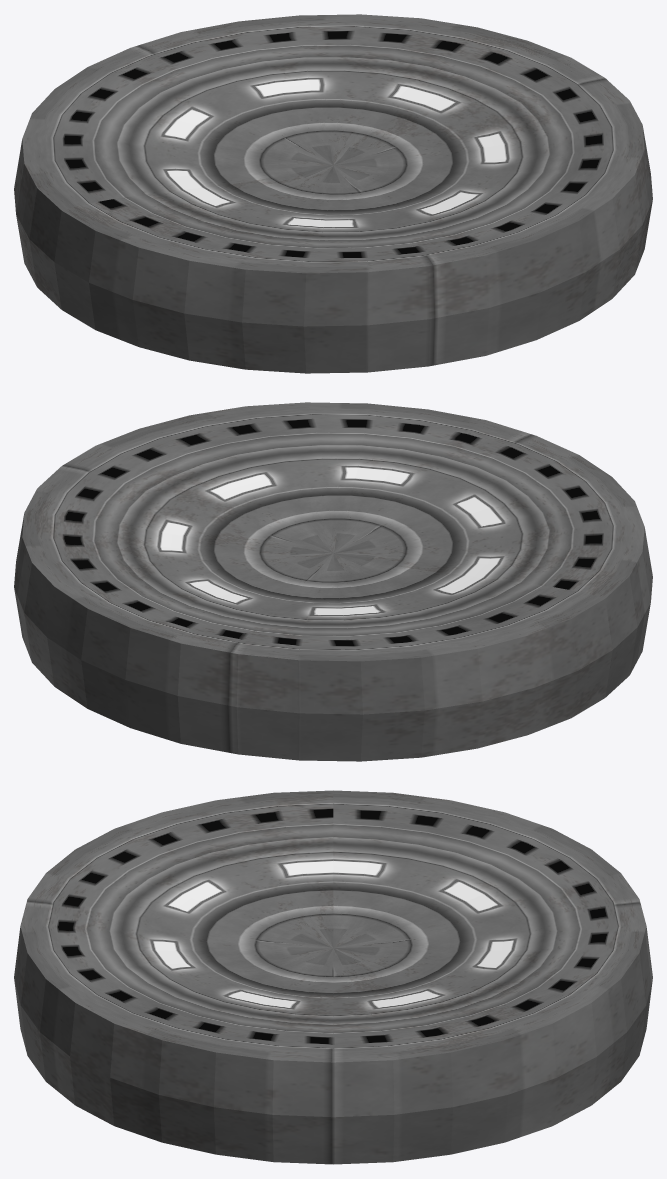
The model's file is ItemStand.fbx.
The picture shows the model from 3 angles, top to bottom: view 1: azimuth 30°, elevation 25°; view 2: azimuth 150°, elevation 25°; view 3: azimuth 270°, elevation 25°; orthographic projection. The views are drawn at different scales.
Visible parts, largest first — view 1: Sphere; view 2: Sphere; view 3: Sphere.
Boxes of the visible parts, x1,y1,x2,y2 form: Sphere: (14, 14, 652, 373); Sphere: (14, 402, 652, 761); Sphere: (14, 790, 652, 1164).
Bounding box in the file's own units: 213 × 36.79 × 206.
